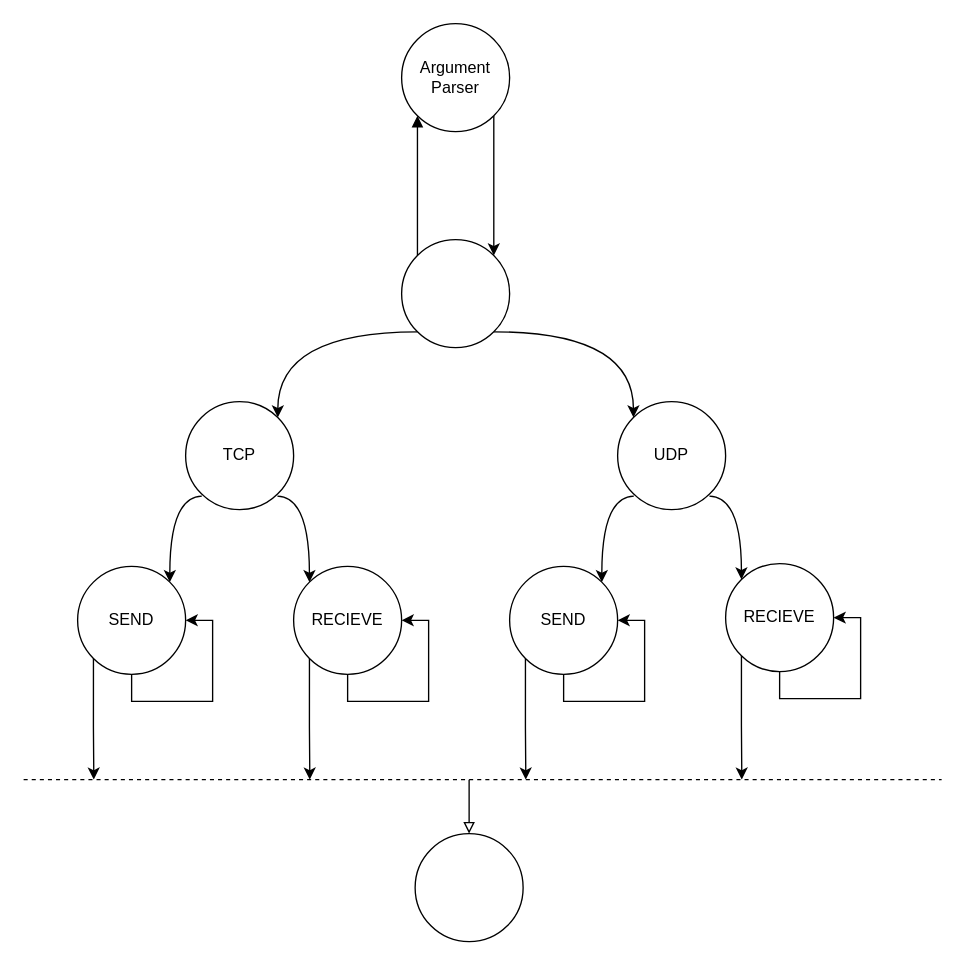
The diagram is 967 pixels wide and 965 high, and some of its shapes have lost their labels. The box of each missing label's shape, as (x1, y1, x2, y2) in pixels:
Exit: (414, 832, 523, 942)
Main: (400, 238, 510, 348)
